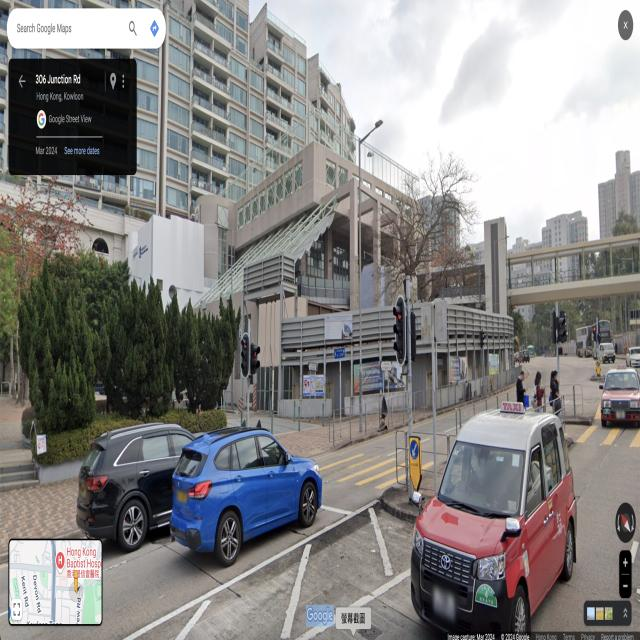Direction-Sign: (334, 348, 346, 358)
Order-Sign: (409, 438, 418, 460), (596, 361, 600, 367)
Street-Direction-Sign: (381, 361, 392, 370), (309, 361, 317, 371)
